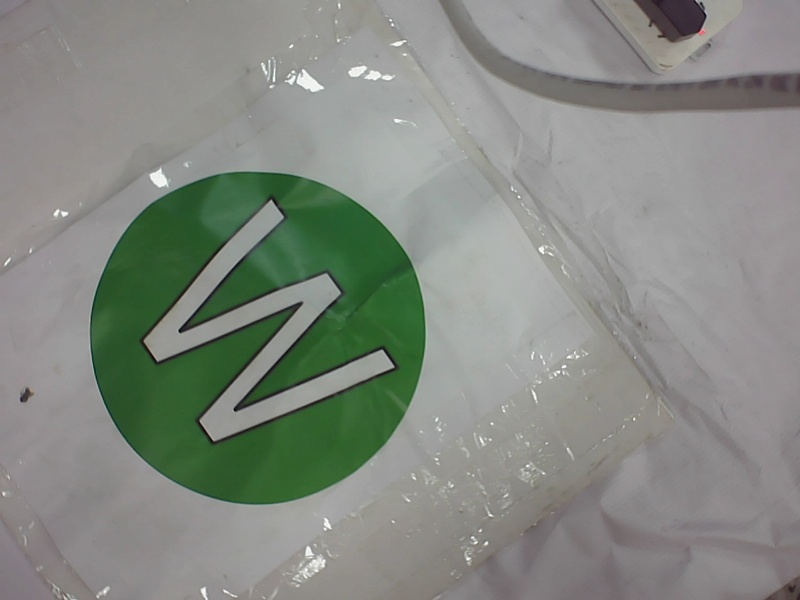areaB: (80, 167, 443, 510)
